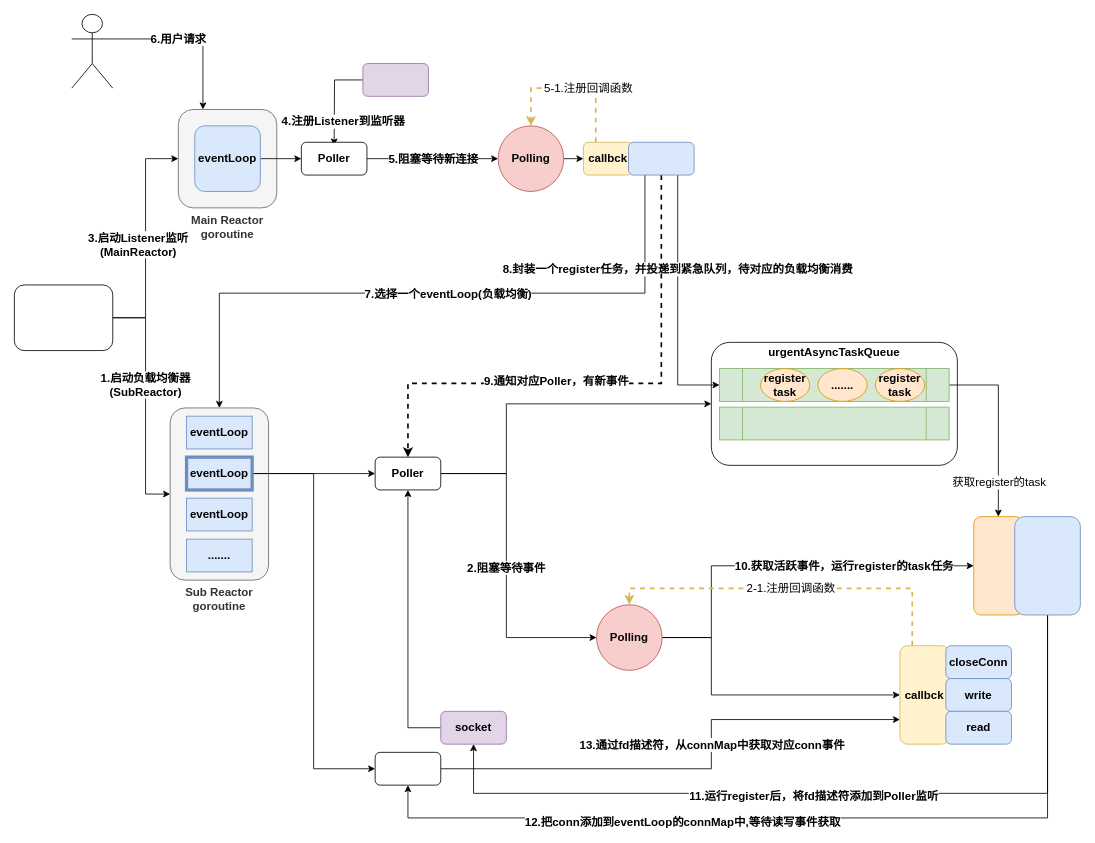
The diagram is 1095 pixels wide and 843 high, and some of its shapes have lost their labels. The shapes that lost their labels are listed below. From the top down, each one's centre as x and y in pixels, then its label:
[92,51]: 用户
[395,79]: listener
[661,158]: accept()
[63,317]: Engine
[834,423]: asyncTaskQueue
[998,565]: Run task
[1047,565]: register
[407,768]: connMap
